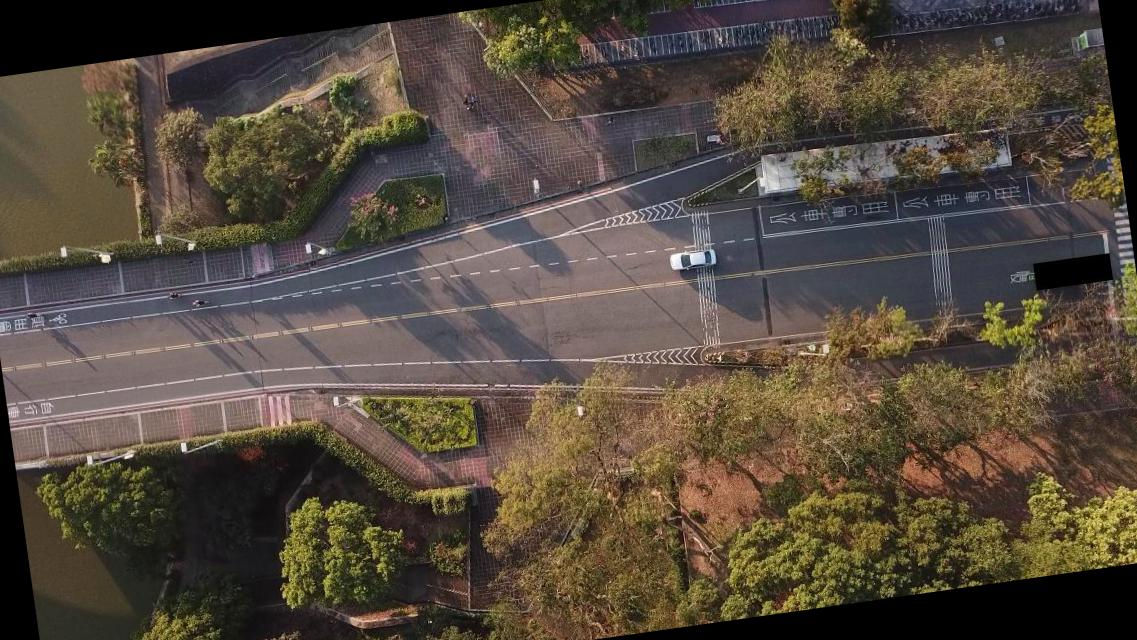vehicle: (668, 246, 717, 273)
